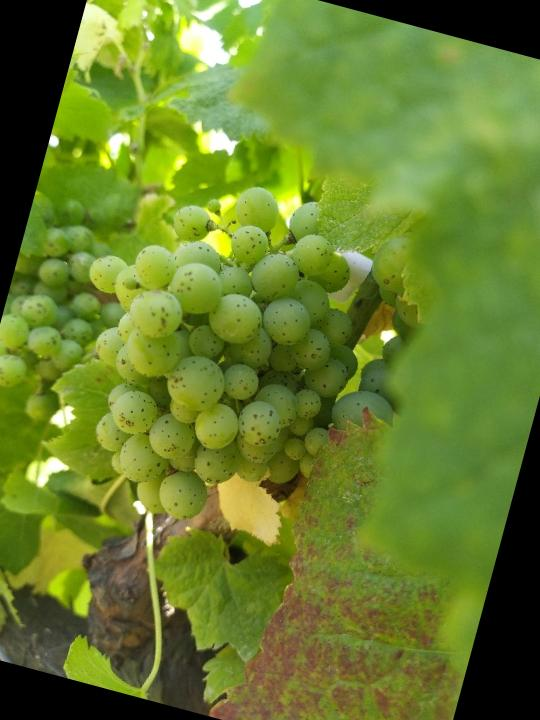grape: (32, 145, 403, 560)
